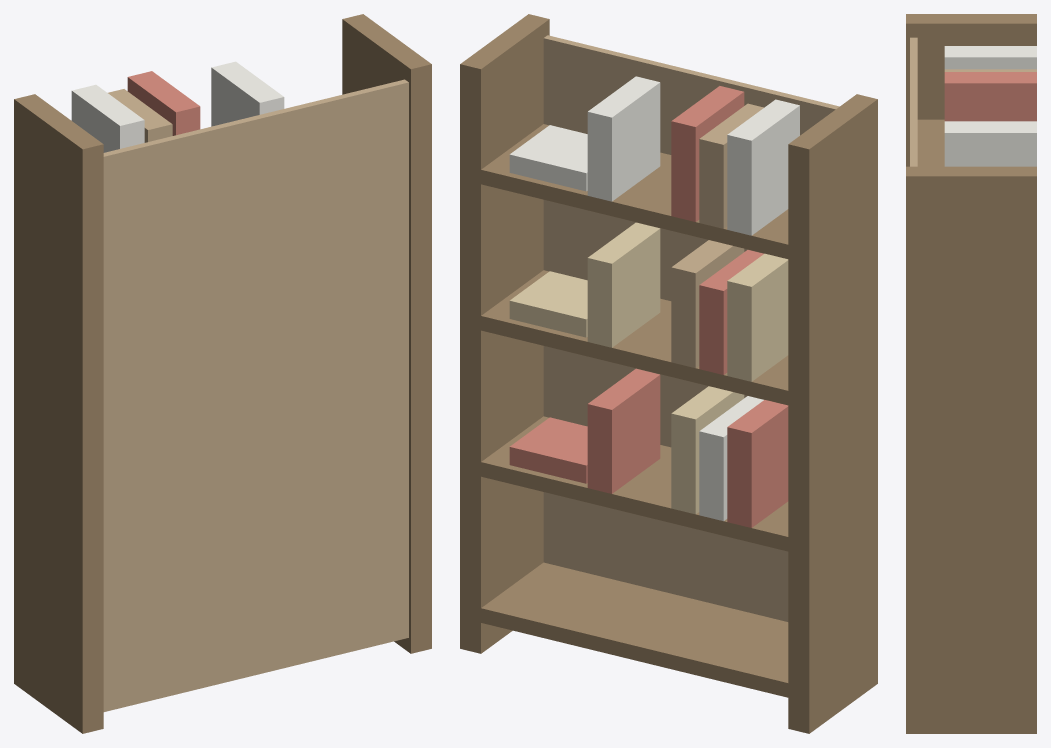
File: 18-Casas_estanteria.glb
3 renders of one model, left to right at view 1: azimuth 30°, elevation 25°; view 2: azimuth 150°, elevation 25°; view 3: azimuth 270°, elevation 25°, orthographic. The views are drawn at different scales.
Parts seen in each view (by area): view 1: SM_Estanteria_M_Mueble_Madera_Clara, SM_Estanteria_M_Mueble_Madera_Oscura, SM_Estanteria_M_Mueble_Lino_Mueble_Madera_Clara_Mueble_Tela_; view 2: SM_Estanteria_M_Mueble_Madera_Oscura, SM_Estanteria_M_Mueble_Madera_Clara, SM_Estanteria_M_Mueble_Lino_Mueble_Madera_Clara_Mueble_Tela_, SM_Estanteria_M_Mueble_Tela_Roja_Mueble_Lino_Mueble_Paja, SM_Estanteria_M_Mueble_Paja_Mueble_Tela_Roja_Mueble_Madera_C; view 3: SM_Estanteria_M_Mueble_Madera_Oscura, SM_Estanteria_M_Mueble_Lino_Mueble_Madera_Clara_Mueble_Tela_, SM_Estanteria_M_Mueble_Madera_Clara.
Boxes of the visible parts, x1,y1,x2,y2 form: SM_Estanteria_M_Mueble_Madera_Clara: (103, 79, 408, 711); SM_Estanteria_M_Mueble_Madera_Oscura: (14, 14, 431, 733); SM_Estanteria_M_Mueble_Lino_Mueble_Madera_Clara_Mueble_Tela_: (71, 61, 284, 152); SM_Estanteria_M_Mueble_Madera_Oscura: (460, 14, 877, 733); SM_Estanteria_M_Mueble_Madera_Clara: (543, 35, 839, 621); SM_Estanteria_M_Mueble_Lino_Mueble_Madera_Clara_Mueble_Tela_: (509, 76, 799, 235); SM_Estanteria_M_Mueble_Tela_Roja_Mueble_Lino_Mueble_Paja: (509, 368, 788, 527); SM_Estanteria_M_Mueble_Paja_Mueble_Tela_Roja_Mueble_Madera_C: (509, 222, 788, 381); SM_Estanteria_M_Mueble_Madera_Oscura: (906, 14, 1036, 733); SM_Estanteria_M_Mueble_Lino_Mueble_Madera_Clara_Mueble_Tela_: (944, 46, 1036, 166); SM_Estanteria_M_Mueble_Madera_Clara: (910, 37, 917, 166).
Bounding box in the file's own units: 1 × 1.6 × 0.34.
